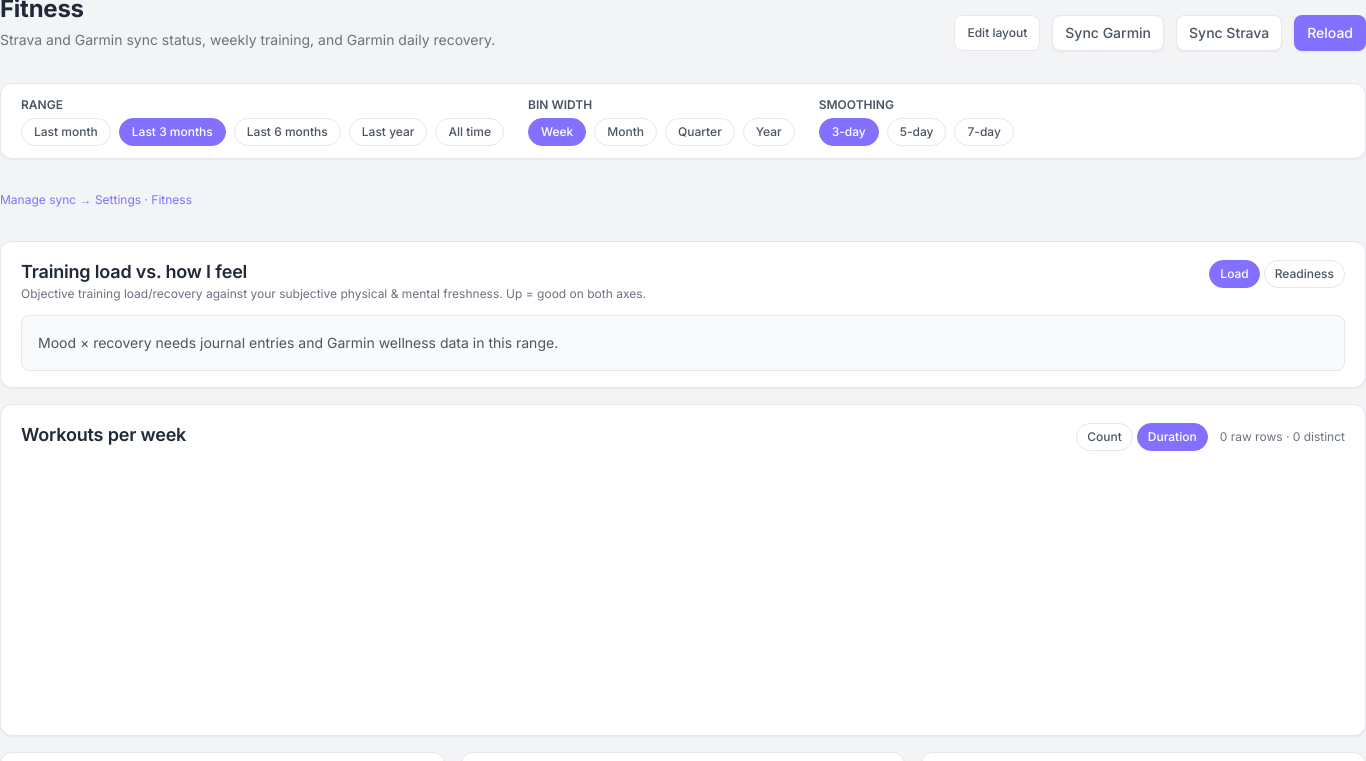
Test case: FitnessView › hides a fitness tile and shows the restore panel
Click the button with test id "fitness-edit-layout-toggle" at {"x": 997, "y": 33}, box [954,15,1040,51]
(page scrolled)
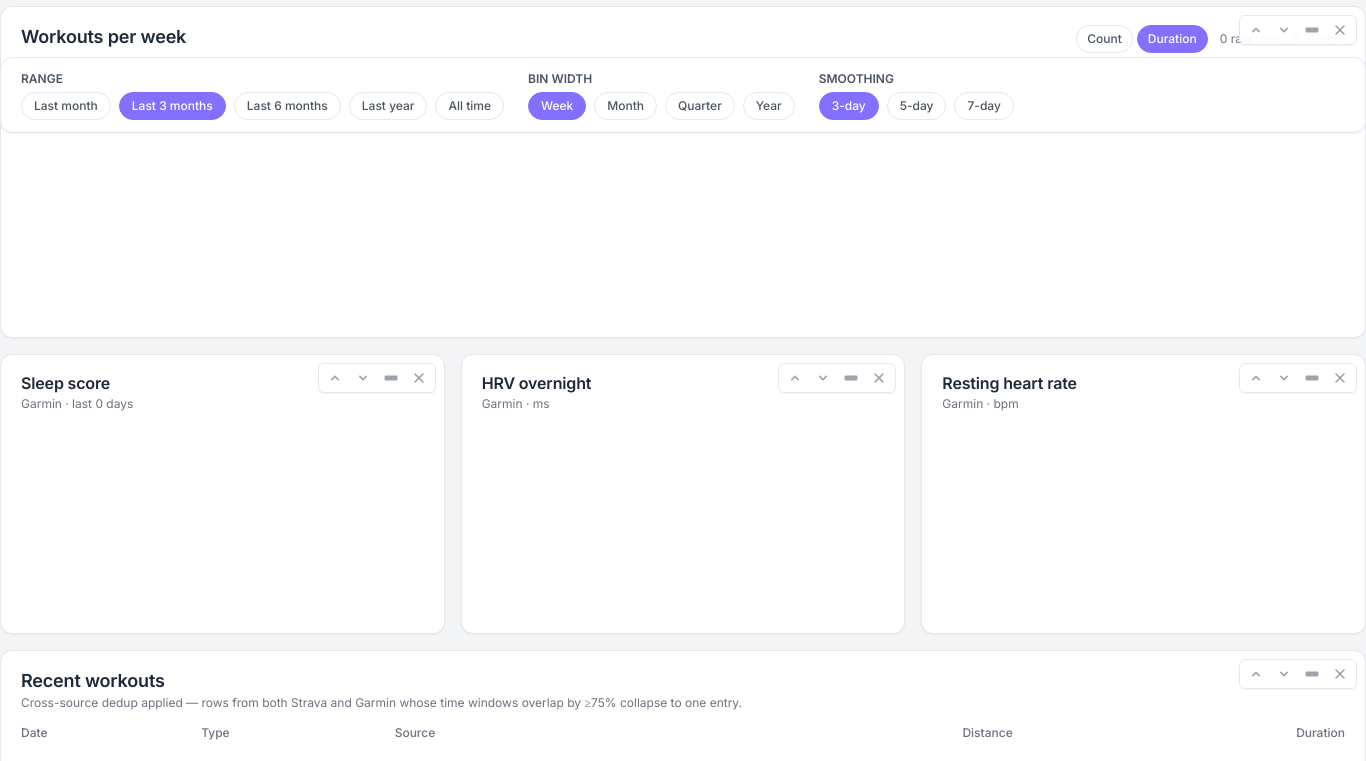
Click the button with test id "tile-hide-sleep" at {"x": 419, "y": 378}, box [407,366,431,390]
(page scrolled)
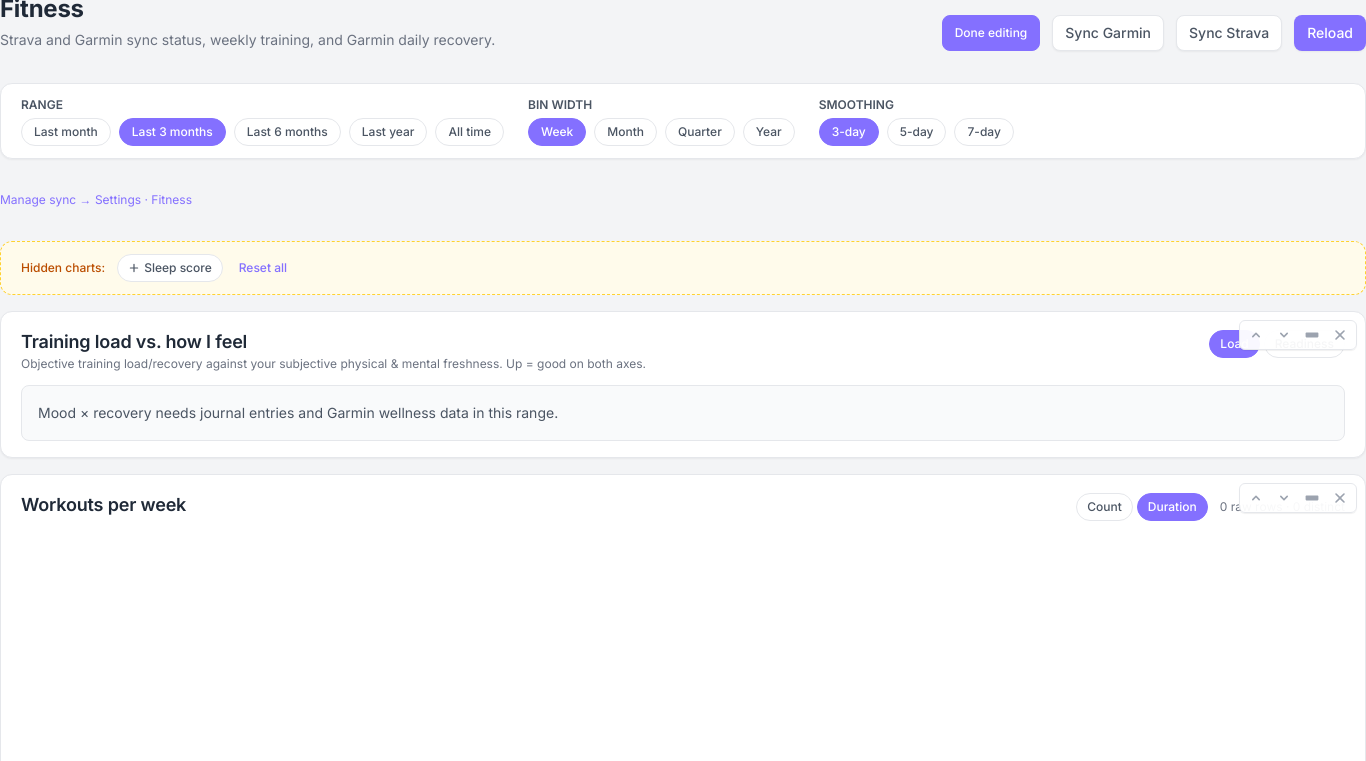
Check: the element with test id "fitness-hidden-tiles-panel" is shown, box [0,241,1365,295]
Restore brings the tile back.
Click the button with test id "fitness-restore-tile-sleep" at {"x": 170, "y": 268}, box [117,254,223,282]
(page scrolled)
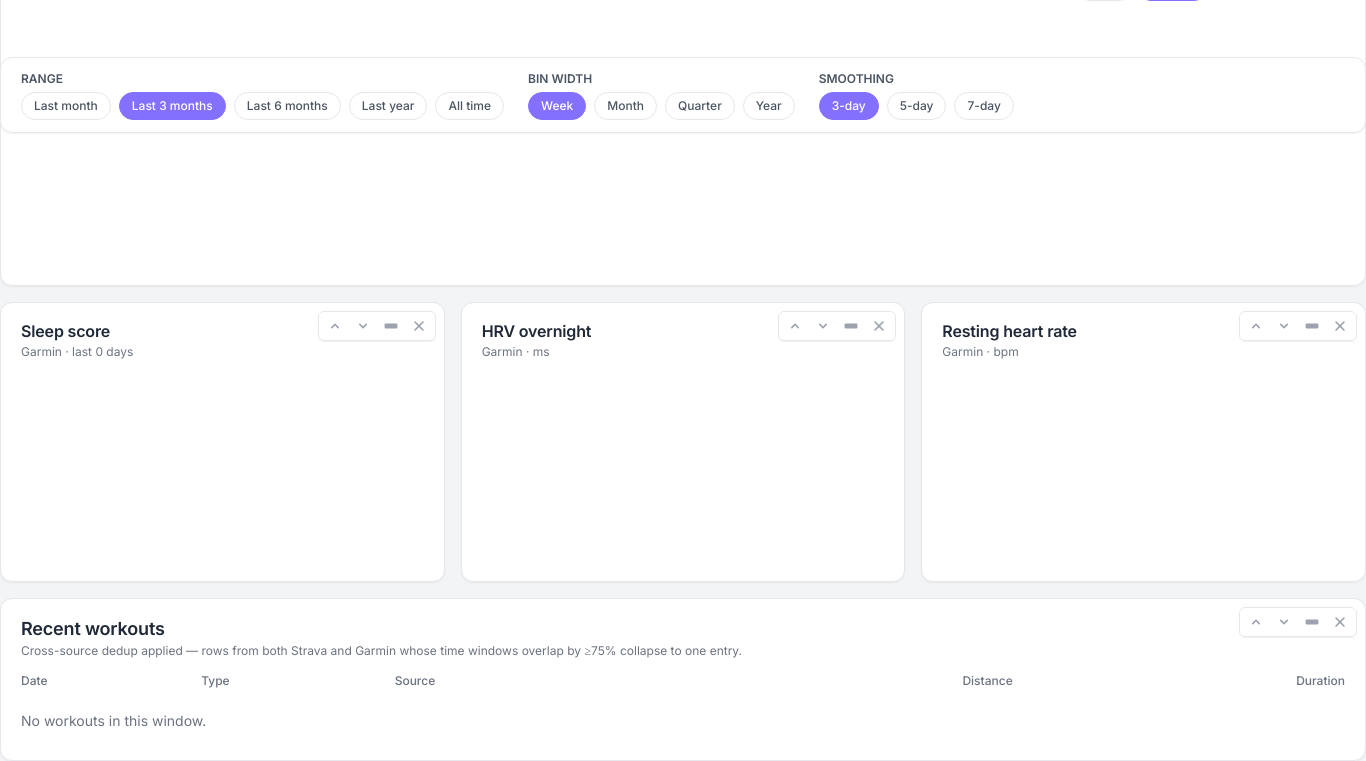
Check: the element with test id "fitness-tile-sleep" is shown, box [0,302,445,582]
